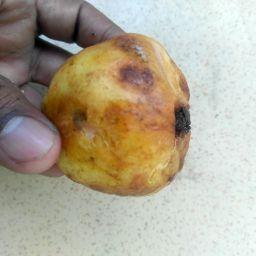guava: (37, 27, 188, 197)
